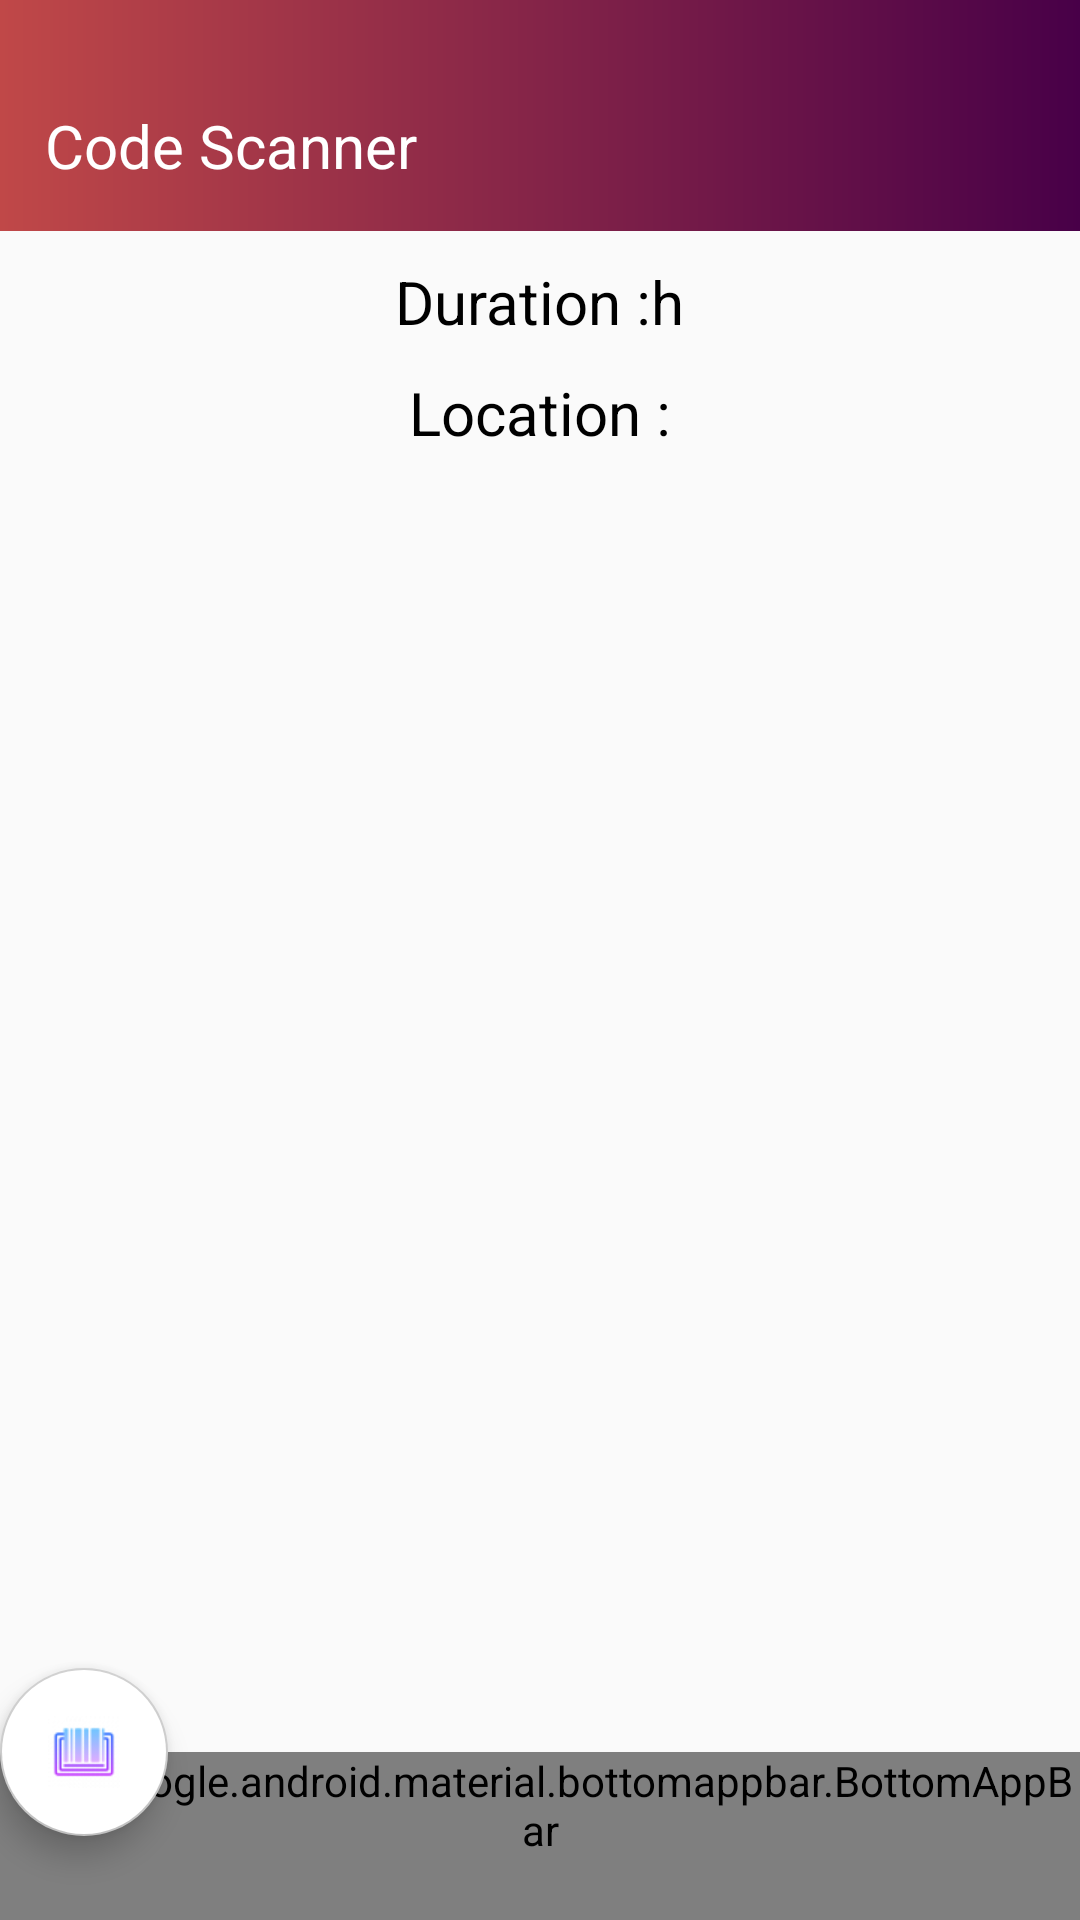

Icons on this 1080px×1920px Android screen, each with the point to tap as (x,y):
scanner: (84,1752)
